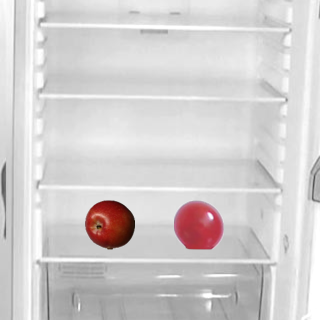Apple Braeburn: (84, 199, 134, 249)
Redcurrant: (173, 199, 223, 249)
